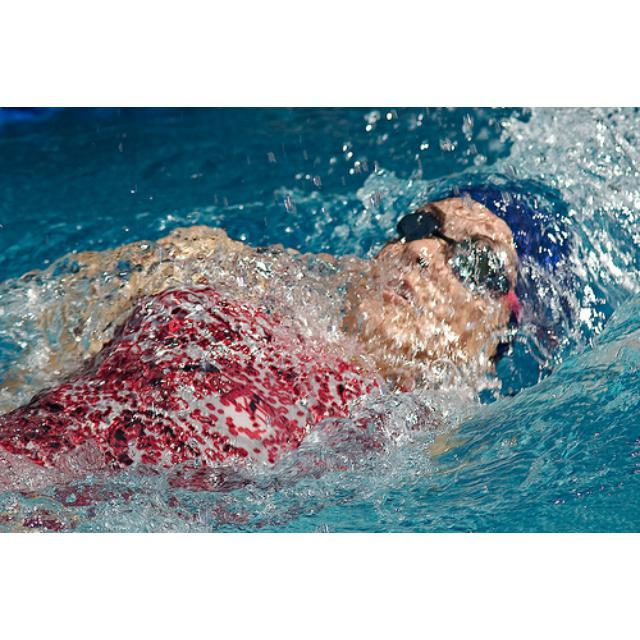human: (1, 176, 592, 507)
